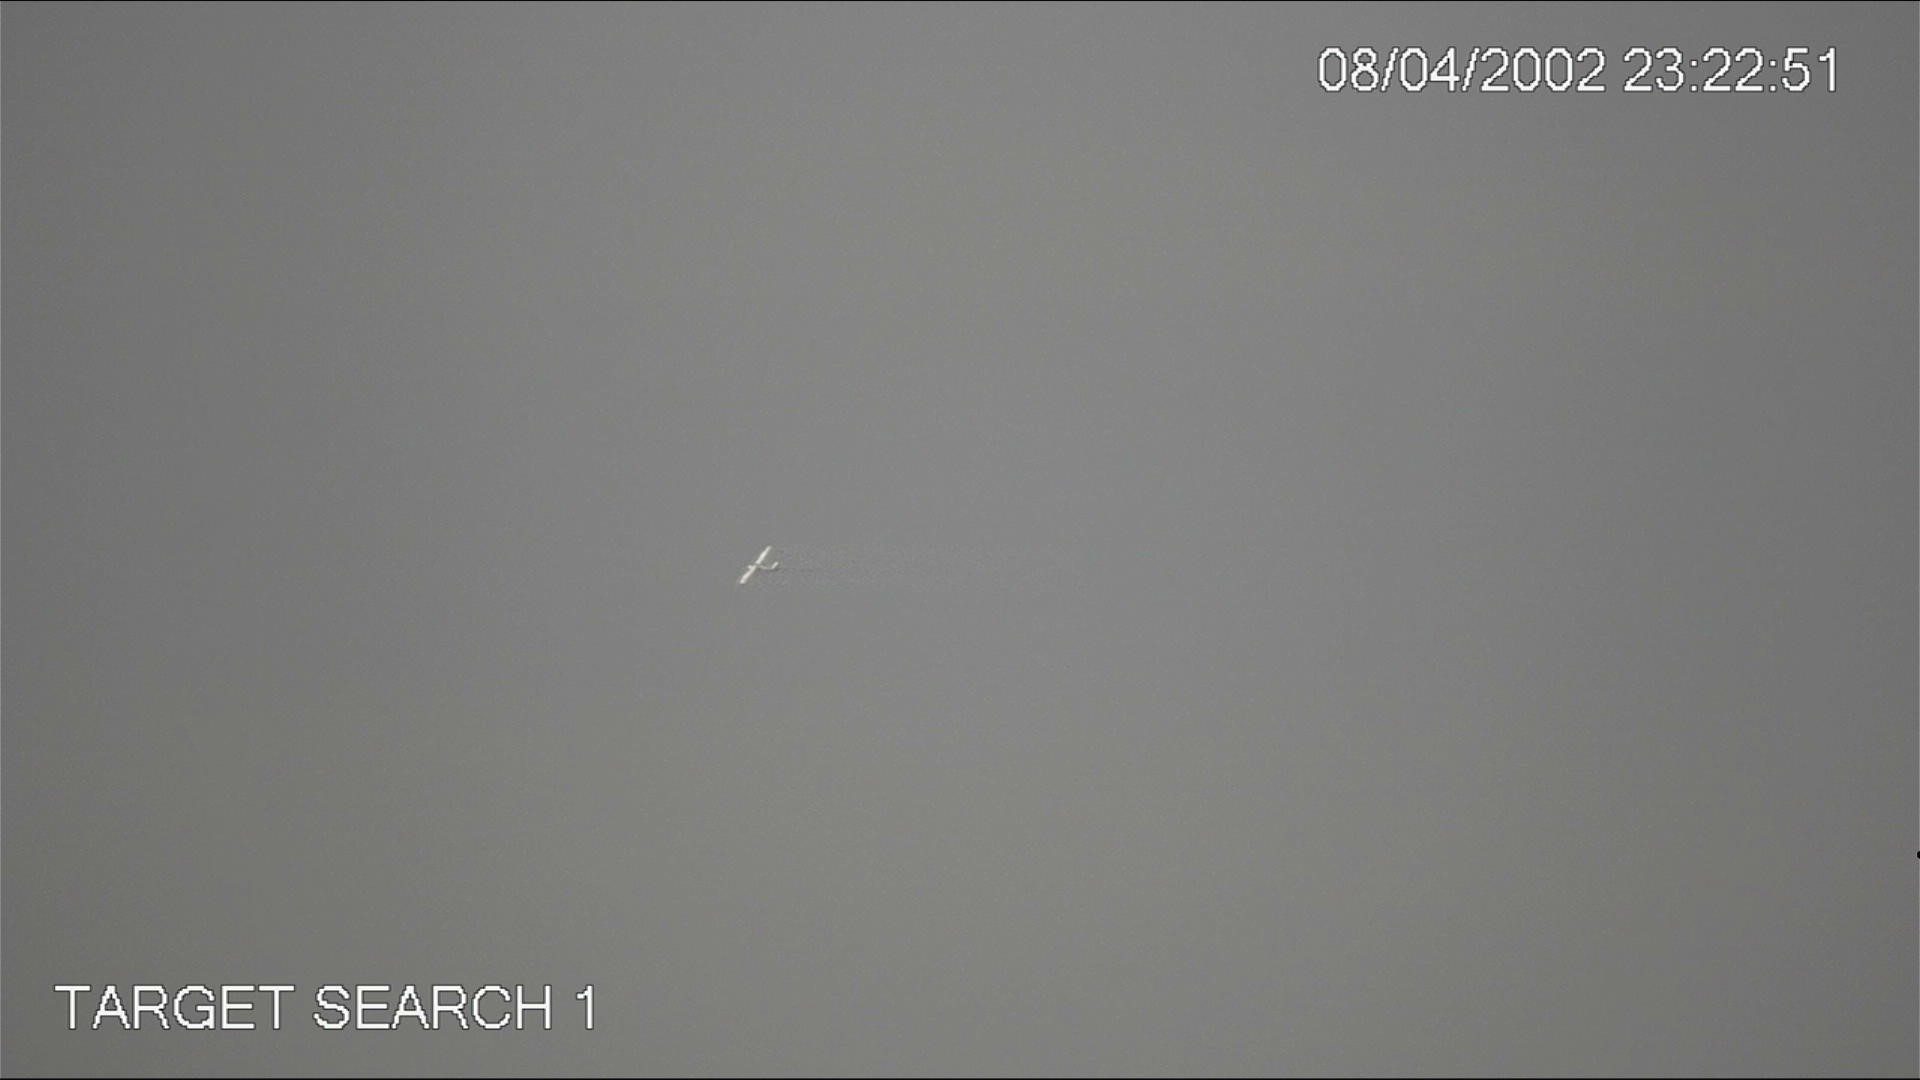SU_30: (733, 541, 785, 591)
